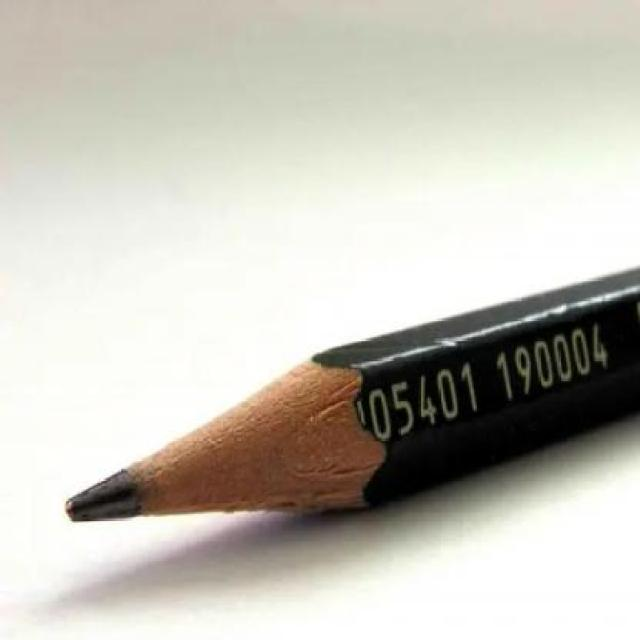pencil: (49, 257, 640, 540)
